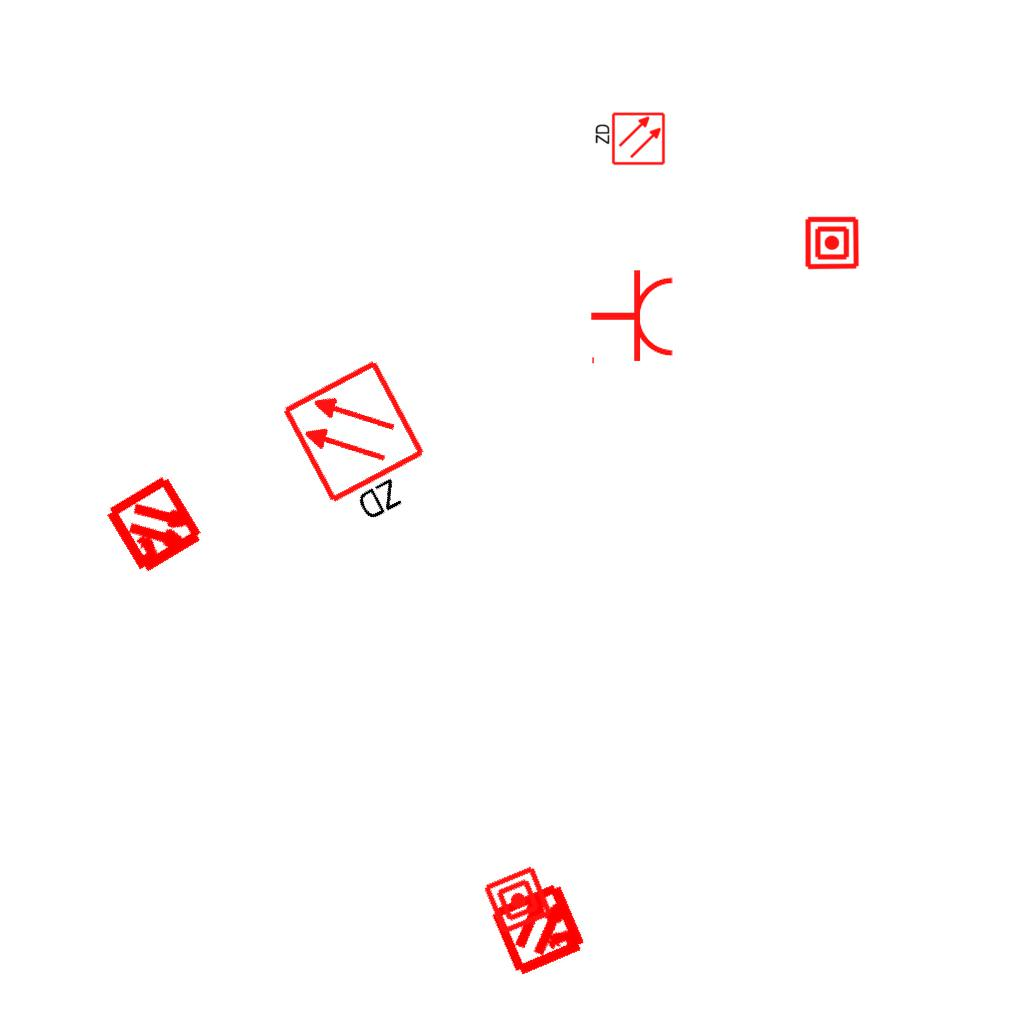NAM-Nichtautomatischer_Melder: (481, 863, 555, 937), (804, 215, 860, 271)
OT_Multisensormelder_(Kombination_RMO_WMD): (77, 448, 234, 605), (466, 854, 615, 1003)
Schukosteckdose_einfach: (589, 268, 676, 368)
ZD_Melder_in_Zwischendecke_mit_Revisionsoeffnung_mind_40_x_40_cm: (278, 354, 450, 541), (592, 111, 666, 168)
